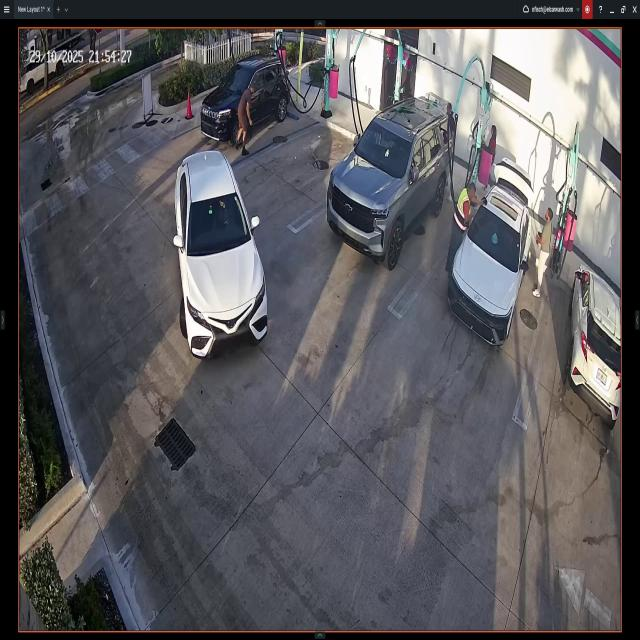Car: (175, 148, 270, 361), (328, 98, 450, 262), (452, 164, 534, 346), (568, 262, 622, 422), (201, 62, 293, 139)
